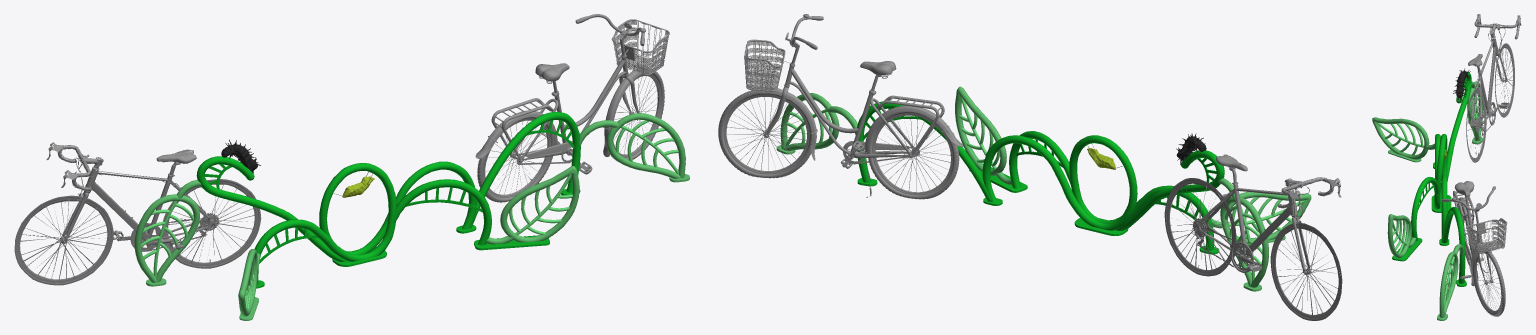
3 views of the same model, side by side, from view 1: azimuth 30°, elevation 25°; view 2: azimuth 150°, elevation 25°; view 3: azimuth 270°, elevation 25° (orthographic). The views are drawn at different scales.
Visible parts, largest first — view 1: bike1, Bike2, Line005, Shape003, Arc025, Arc014, Line006, Arc027, Shape002, Arc026, Arc024, Arc028 (+3 smaller); view 2: bike1, Bike2, Line005, Arc025, Shape003, Arc014, Line006, Shape002, Arc027, Arc030, Arc026, Arc031 (+3 smaller); view 3: bike1, Bike2, Line005, Arc030, Line006, Shape003, Arc027, Arc025, Shape002, Arc031, Arc026, Arc014 (+6 smaller).
Part boxes in pixels (x1,y1,x2,y2): bike1: (475, 14, 669, 202); Bike2: (14, 142, 261, 285); Line005: (254, 161, 476, 284); Shape003: (196, 156, 347, 261); Arc025: (486, 166, 579, 244); Arc014: (134, 179, 201, 282); Line006: (469, 112, 580, 228); Arc027: (606, 113, 685, 178); Shape002: (388, 179, 491, 245); Arc026: (509, 174, 572, 235); Arc024: (141, 201, 193, 277); Arc028: (615, 120, 678, 174); bike1: (718, 14, 963, 199); Bike2: (1164, 154, 1342, 320); Line005: (982, 135, 1214, 250); Arc025: (955, 86, 1011, 185); Shape003: (1116, 150, 1224, 230); Arc014: (1218, 178, 1268, 287); Line006: (857, 101, 990, 201); Shape002: (1009, 131, 1078, 188); Arc027: (780, 93, 839, 151); Arc030: (1211, 191, 1311, 243); Arc026: (959, 95, 999, 169); Arc031: (1228, 197, 1304, 239); bike1: (1441, 181, 1507, 316); Bike2: (1466, 14, 1521, 162); Line005: (1434, 134, 1447, 240); Arc030: (1372, 117, 1434, 159); Line006: (1441, 207, 1465, 283); Shape003: (1440, 71, 1471, 199); Arc027: (1439, 251, 1458, 317); Arc025: (1387, 214, 1416, 258); Shape002: (1411, 177, 1439, 240); Arc031: (1376, 122, 1423, 155); Arc026: (1392, 220, 1408, 253); Arc014: (1467, 81, 1483, 140).
Bounding box in the file's own units: 5.46 × 1.23 × 1.52.
